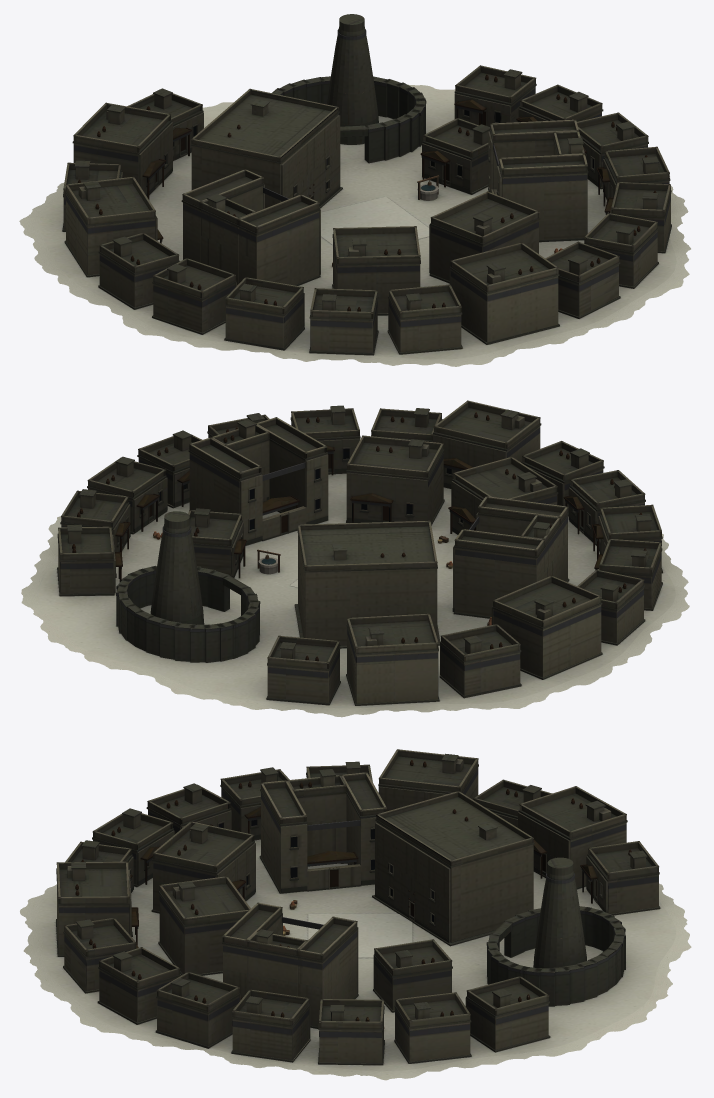
File: kingdoms-town-big-b-eastafrica.glb
The picture shows the model from 3 angles, top to bottom: view 1: azimuth 30°, elevation 25°; view 2: azimuth 150°, elevation 25°; view 3: azimuth 270°, elevation 25°; orthographic projection.
Visible parts, largest first — view 1: LOD0; view 2: LOD0; view 3: LOD0.
Boxes of the visible parts, bbox=[...] form: LOD0: bbox=[19, 14, 690, 366]; LOD0: bbox=[21, 400, 689, 717]; LOD0: bbox=[20, 749, 691, 1080].
Size of what is drawn, in the model's own units: 7.96 by 1.49 by 7.93.
Materials: 3 (3 with a texture image).
